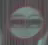No overtake: (5, 6, 47, 42)
